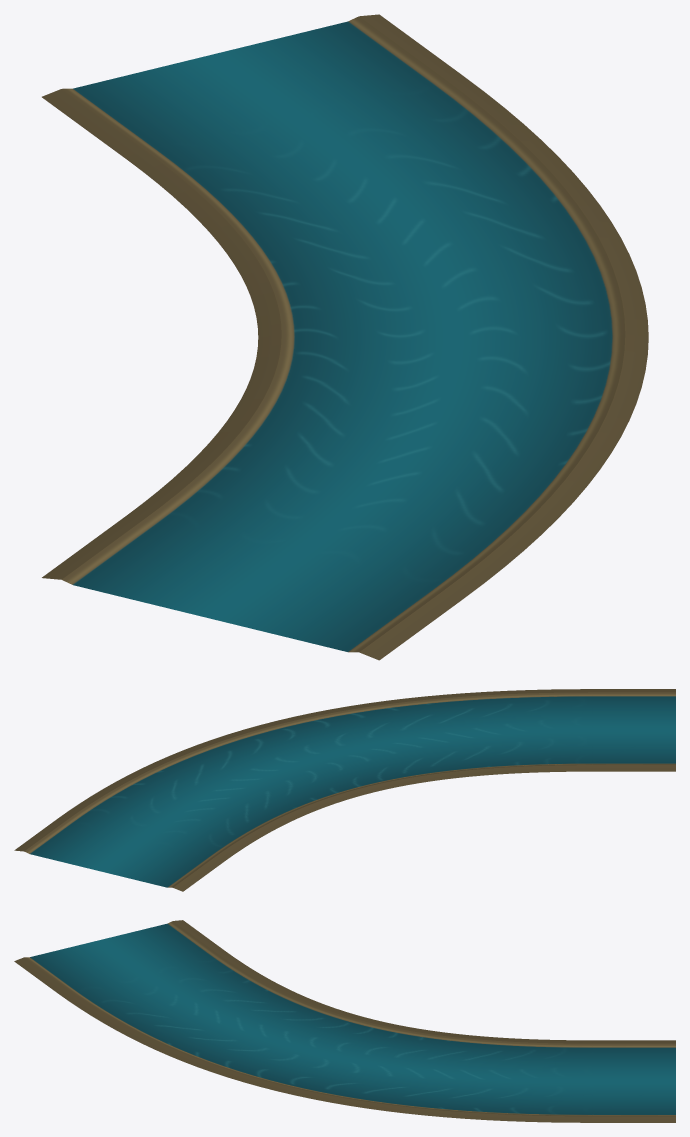
File: hex_river_overlay_turn_120.glb
3 renders of one model, top to bottom at view 1: azimuth 30°, elevation 25°; view 2: azimuth 150°, elevation 25°; view 3: azimuth 270°, elevation 25°, orthographic. The views are drawn at different scales.
Parts seen in each view (by area): view 1: Independent painted river ribbon; view 2: Independent painted river ribbon; view 3: Independent painted river ribbon.
Boxes of the visible parts, x1,y1,x2,y2 form: Independent painted river ribbon: (42, 14, 648, 660); Independent painted river ribbon: (14, 689, 675, 891); Independent painted river ribbon: (14, 920, 675, 1122).
Bounding box in the file's own units: 2.75 × 0.01 × 3.8.
1 material, 1 textured.
